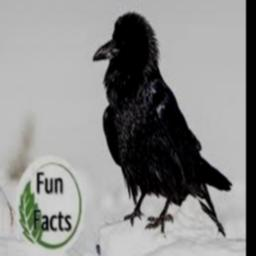Crow: (92, 12, 231, 237)
